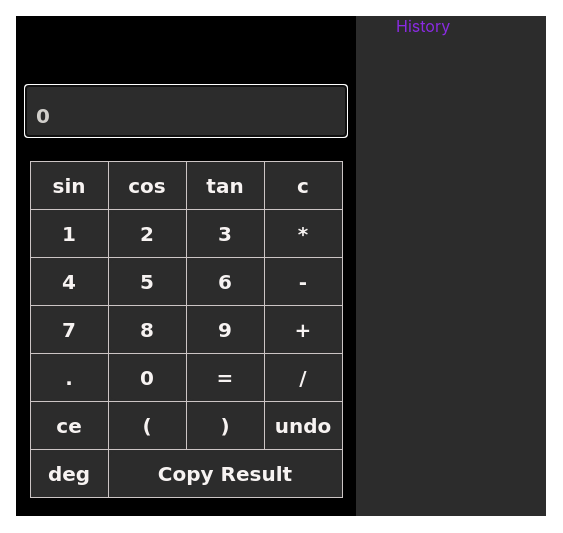
App › test trignometry values in rad
The image size is (563, 533).
Click the button with test id "buttonsin" at point(69, 186), box top-left (32, 163), bottom-right (106, 208)
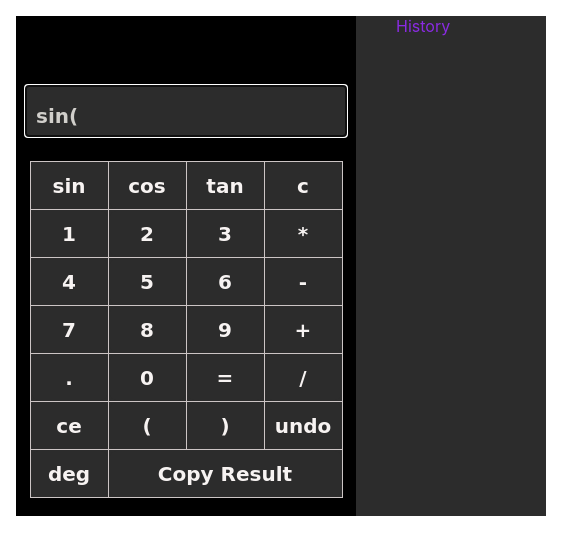
Result: the field with test id "input" holds "sin(" at top-left (26, 86), bottom-right (346, 136)
Click the button with test id "button9" at point(225, 330), box top-left (188, 307), bottom-right (262, 352)
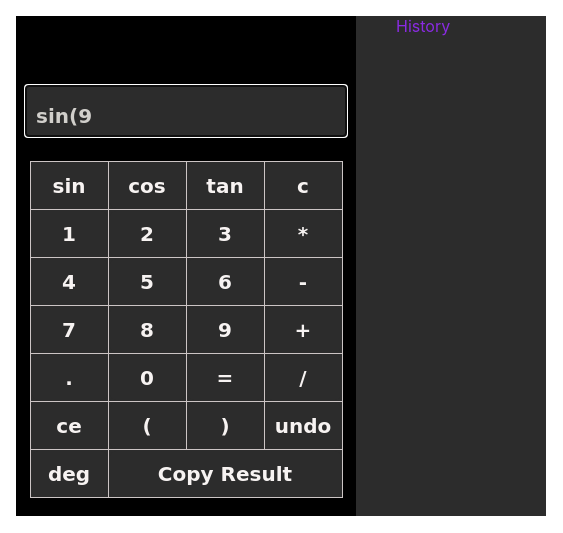
Result: the field with test id "input" holds "sin(9" at top-left (26, 86), bottom-right (346, 136)
Click the button with test id "button0" at point(147, 378), box top-left (110, 355), bottom-right (184, 400)
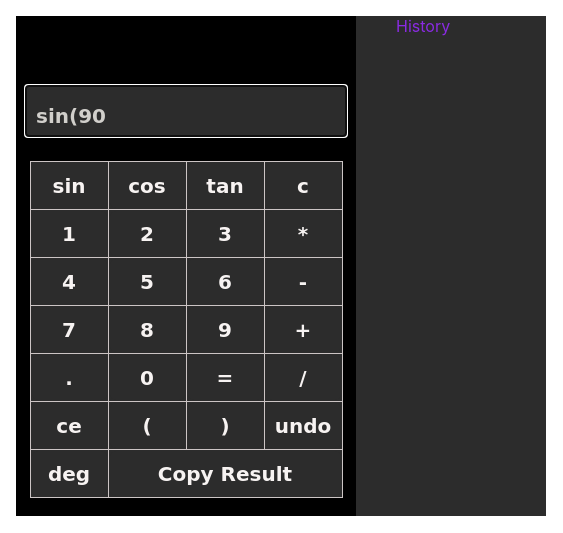
Result: the field with test id "input" holds "sin(90" at top-left (26, 86), bottom-right (346, 136)
Click the button with test id "button)" at point(225, 426), box top-left (188, 403), bottom-right (262, 448)
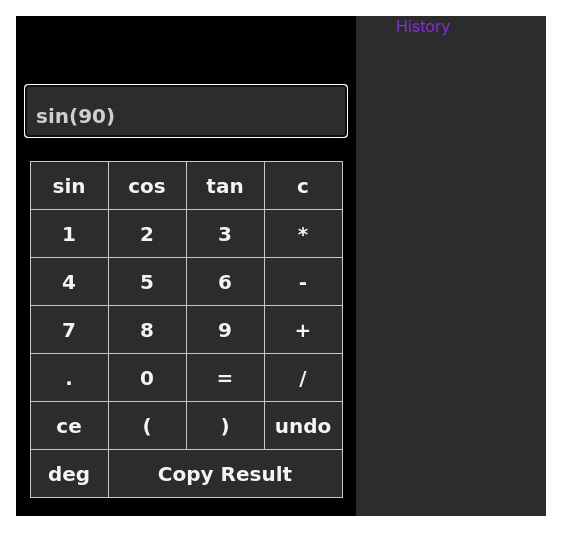
Result: the field with test id "input" holds "sin(90)" at top-left (26, 86), bottom-right (346, 136)
Click the button with test id "button=" at point(225, 378), box top-left (188, 355), bottom-right (262, 400)
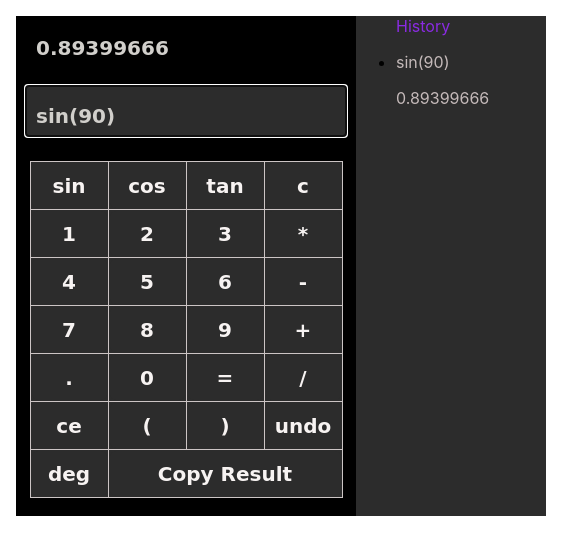
Result: the text with id "result" reads "0.89399666" at top-left (36, 36), bottom-right (169, 60)
